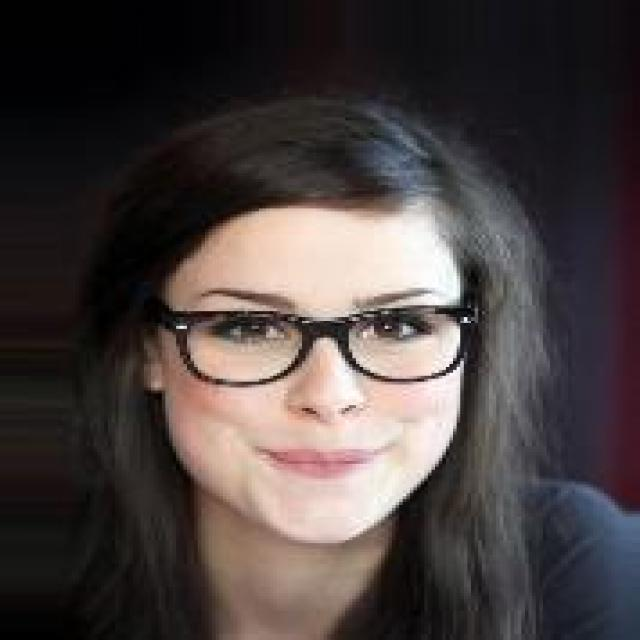nomask: (133, 117, 539, 558)
